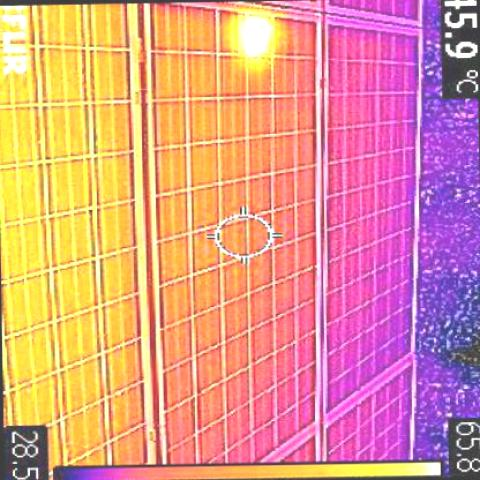fault: (238, 12, 270, 54)
